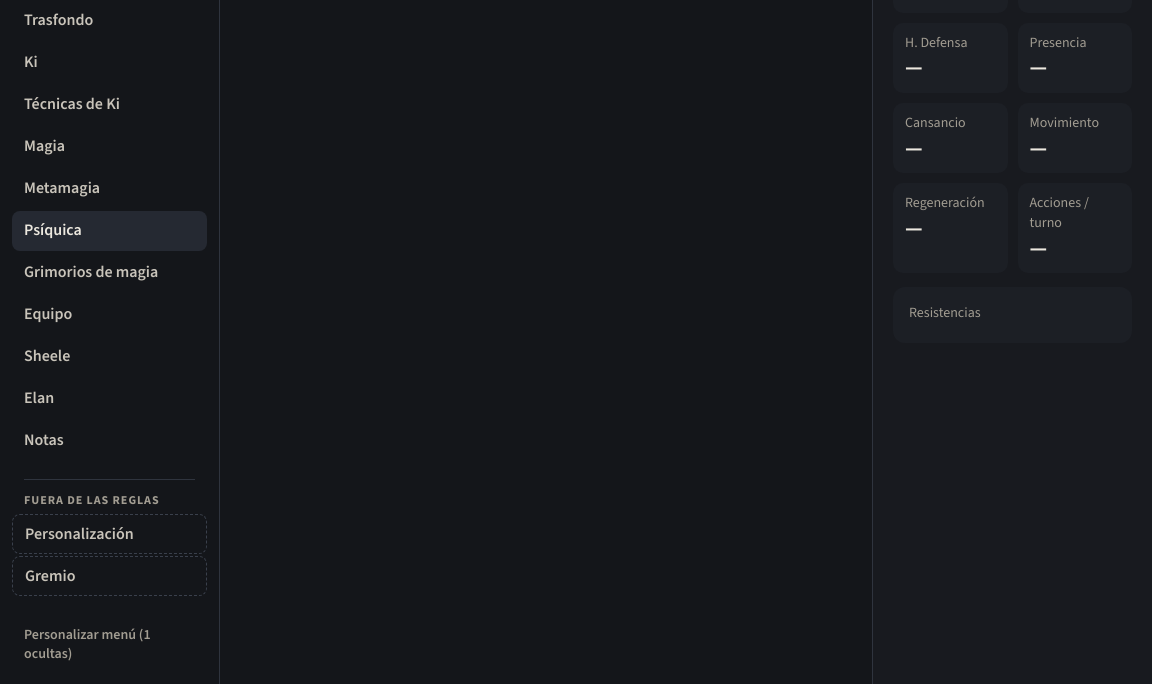
Test: personalizar el menú › si estás en una pestaña oculta sigue viéndose hasta que cambias de sección
(page scrolled)
What coordinates should you click on to do the following:
click the button with class "menu-personalizar-boton"
I would click on:
 (110, 644)
Its box is [12,624,207,664].
(page scrolled)
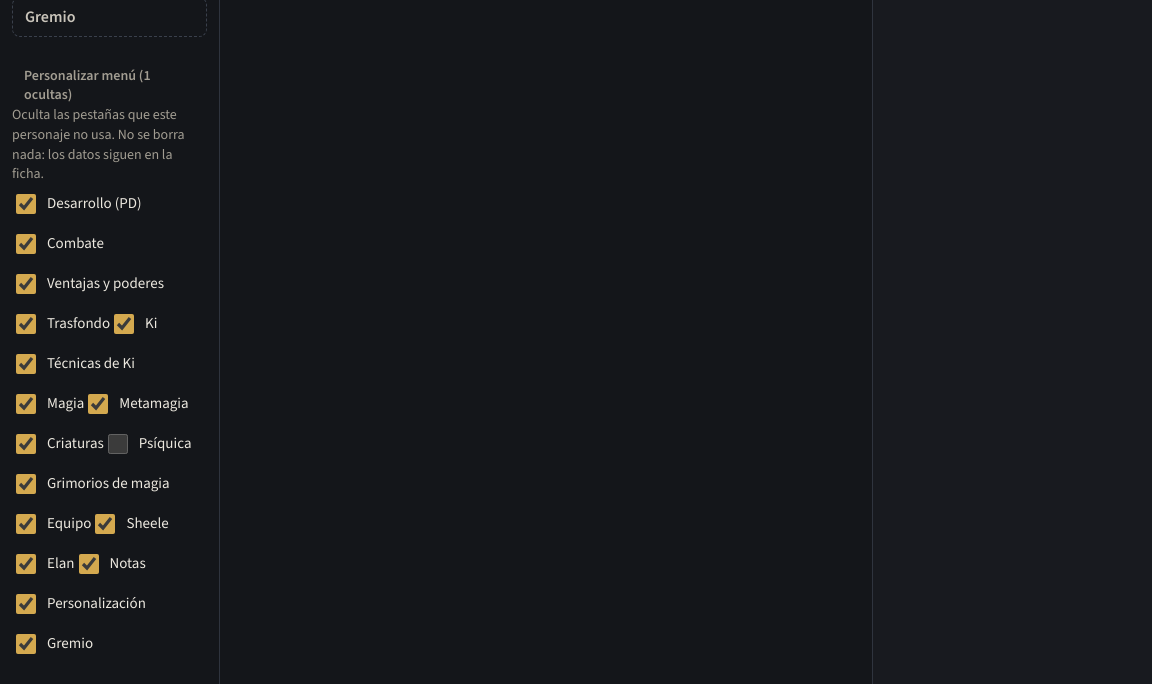
Now the checkbox labelled "Psíquica" is shown, box [108,434,128,454]
